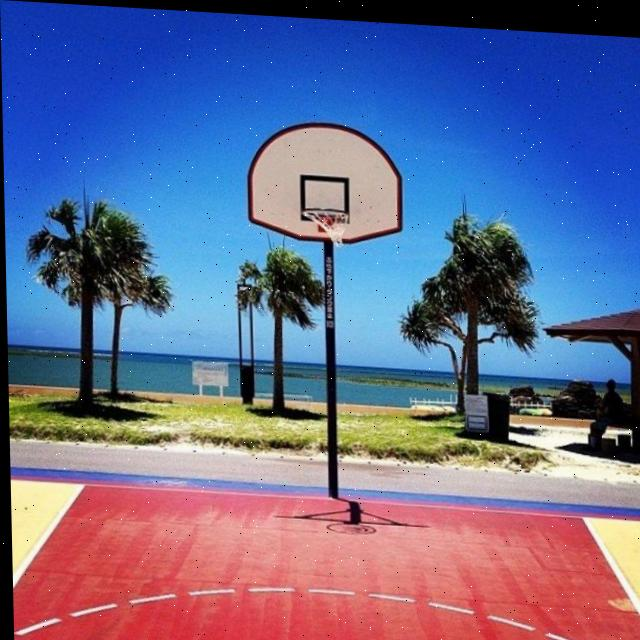hoop: (315, 206, 358, 252)
